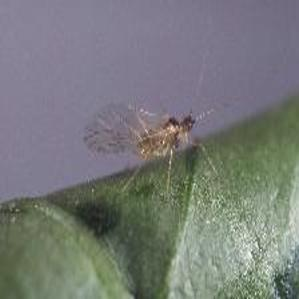Green peach aphid: (61, 78, 235, 199)
